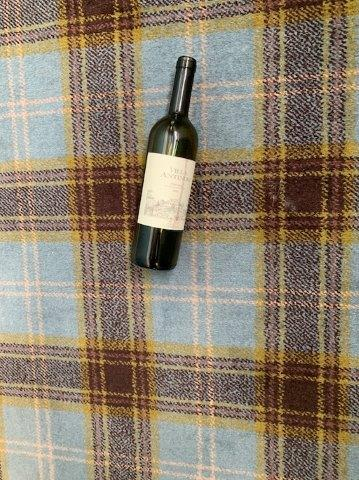botolkaca: (133, 55, 197, 271)
